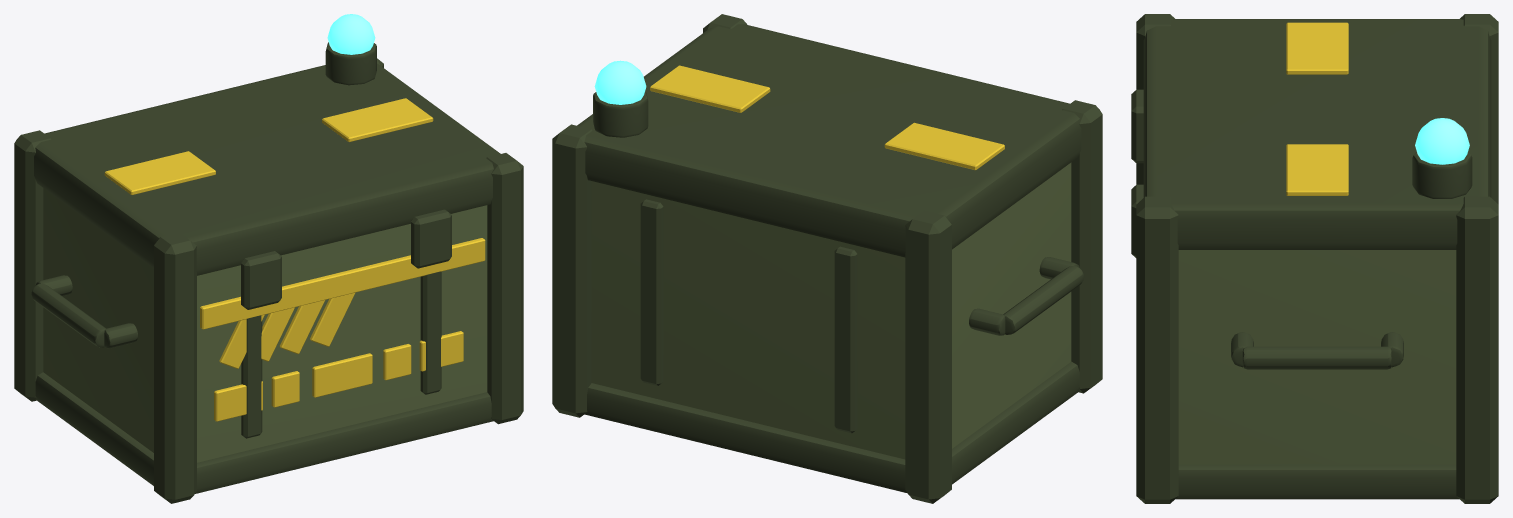
The model's file is env_supply_crate.fbx.
The picture shows the model from 3 angles, left to right: view 1: azimuth 30°, elevation 25°; view 2: azimuth 150°, elevation 25°; view 3: azimuth 270°, elevation 25°; orthographic projection. The views are drawn at different scales.
Parts seen in each view (by area): view 1: Frame, Body, Stencil, Light; view 2: Frame, Body, Stencil, Light; view 3: Frame, Body, Stencil, Light.
Boxes of the visible parts, x1=… form: Frame: x1=14, y1=42, x2=523, y2=503; Body: x1=43, y1=188, x2=487, y2=462; Stencil: x1=104, y1=98, x2=485, y2=421; Light: x1=327, y1=14, x2=375, y2=54; Frame: x1=552, y1=14, x2=1102, y2=503; Body: x1=591, y1=162, x2=1071, y2=459; Stencil: x1=650, y1=65, x2=1004, y2=170; Light: x1=594, y1=60, x2=646, y2=104; Frame: x1=1131, y1=14, x2=1498, y2=503; Body: x1=1178, y1=250, x2=1456, y2=464; Stencil: x1=1286, y1=22, x2=1348, y2=195; Light: x1=1415, y1=118, x2=1469, y2=164.
Size of the model in its own units: 4.36 by 3.21 by 2.94.
